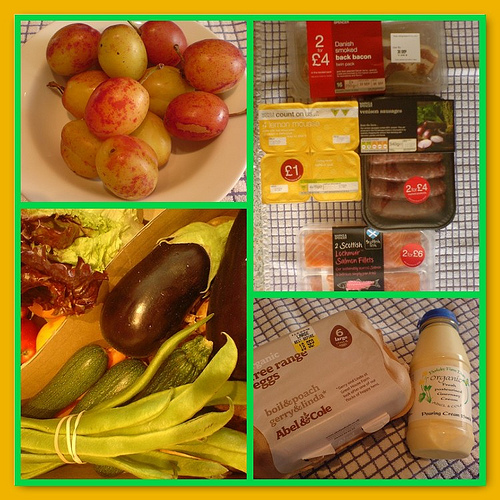egg: (92, 133, 160, 201)
